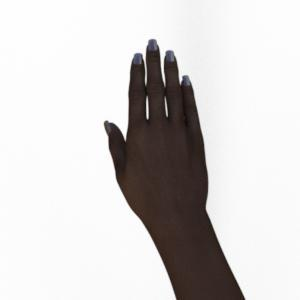paper: (104, 40, 245, 300)
